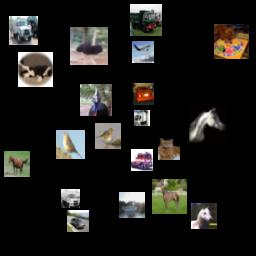airplane: (132, 41, 154, 63)
automobile: (67, 210, 89, 232), (132, 83, 154, 105)
bird: (70, 27, 108, 65), (80, 84, 112, 116), (56, 130, 85, 159), (95, 123, 121, 149)
cat: (214, 24, 249, 59), (18, 52, 53, 87), (158, 138, 180, 160)
ship: (119, 192, 145, 218)
truck: (130, 4, 162, 36), (9, 16, 38, 45), (131, 149, 153, 171), (61, 189, 80, 208), (134, 110, 150, 126)
